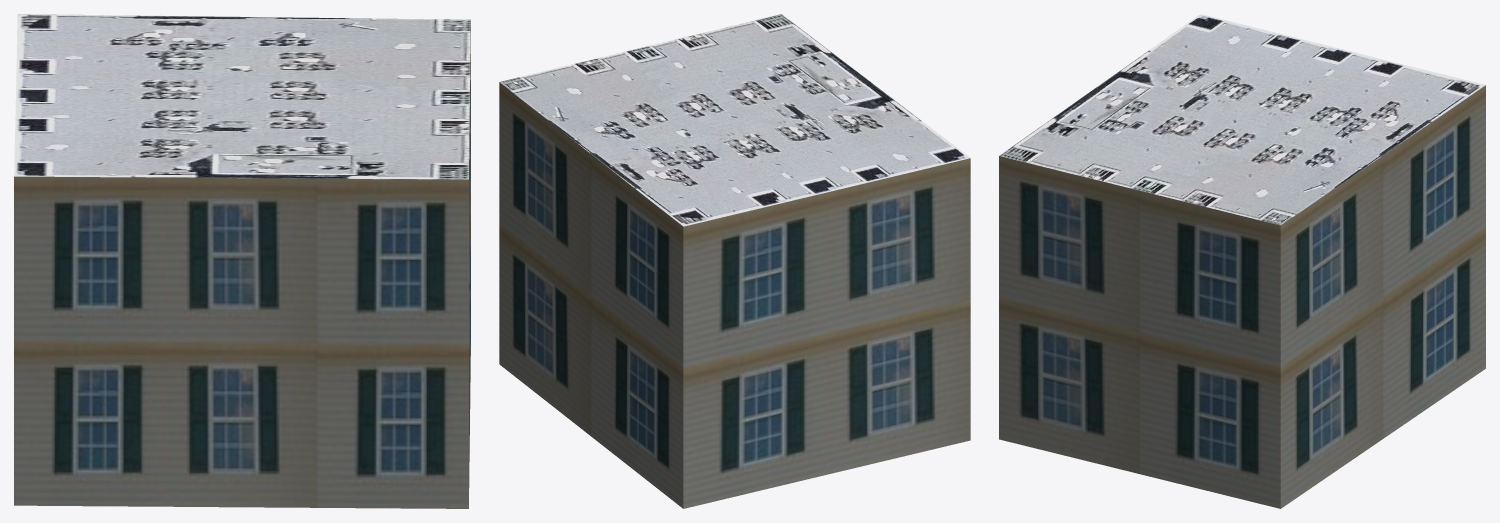
File: ResTex__3270.fbx
The picture shows the model from 3 angles, left to right: view 1: azimuth 30°, elevation 25°; view 2: azimuth 150°, elevation 25°; view 3: azimuth 270°, elevation 25°; orthographic projection. The views are drawn at different scales.
Parts seen in each view (by area): view 1: CityEngineMaterial_7_m, CityEngineMaterial_8_m; view 2: CityEngineMaterial_7_m, CityEngineMaterial_8_m; view 3: CityEngineMaterial_7_m, CityEngineMaterial_8_m.
Part boxes in pixels (<box>): CityEngineMaterial_7_m: <box>14,27,470,508</box>; CityEngineMaterial_8_m: <box>14,14,470,179</box>; CityEngineMaterial_7_m: <box>499,82,970,508</box>; CityEngineMaterial_8_m: <box>499,14,970,226</box>; CityEngineMaterial_7_m: <box>999,85,1485,508</box>; CityEngineMaterial_8_m: <box>999,14,1485,225</box>.
Size of the model in its own units: 9.6 by 6 by 9.34.
Materials: 2 (2 with a texture image).
